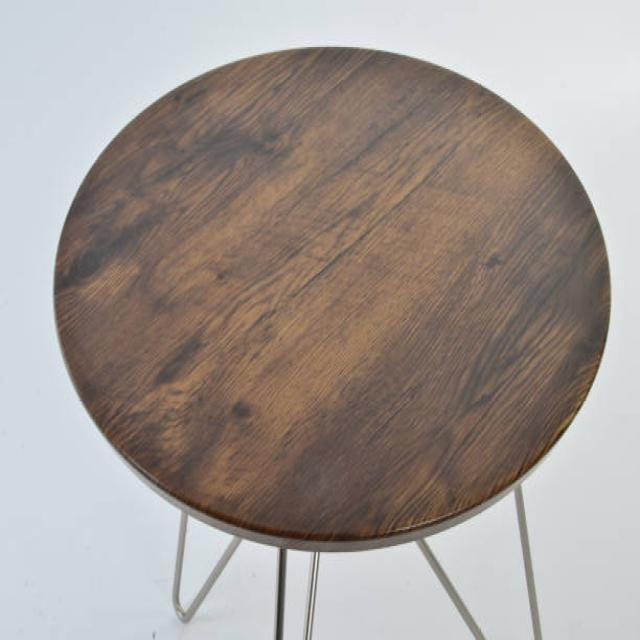table: (52, 42, 611, 638)
